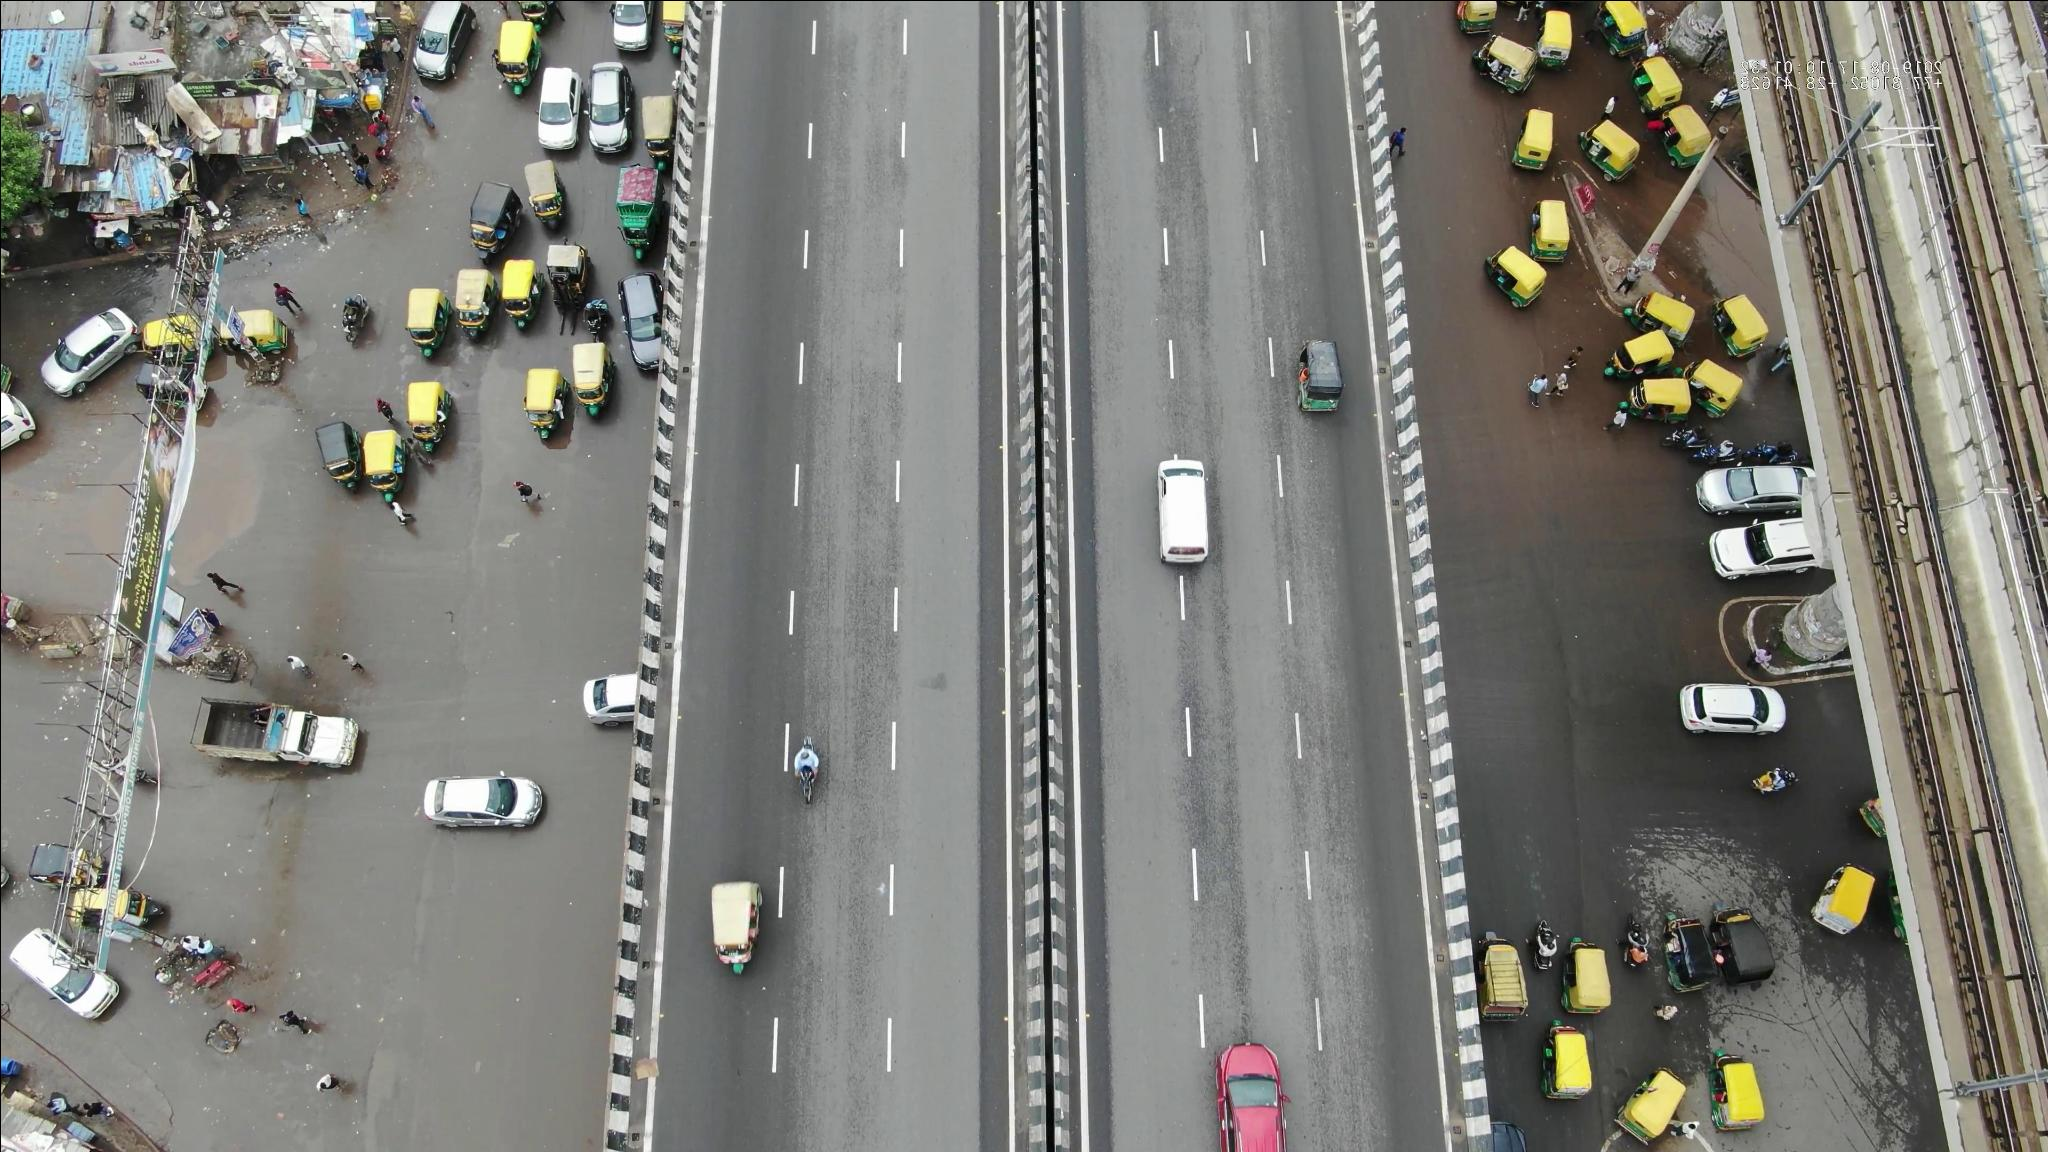Muddy_road: (1443, 419, 1584, 575), (1454, 328, 1568, 404), (1423, 186, 1518, 248)
Waterlogging: (191, 435, 277, 571)
